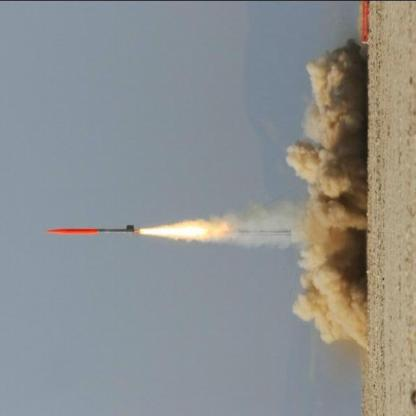MIL_TBM: (46, 225, 139, 233)
